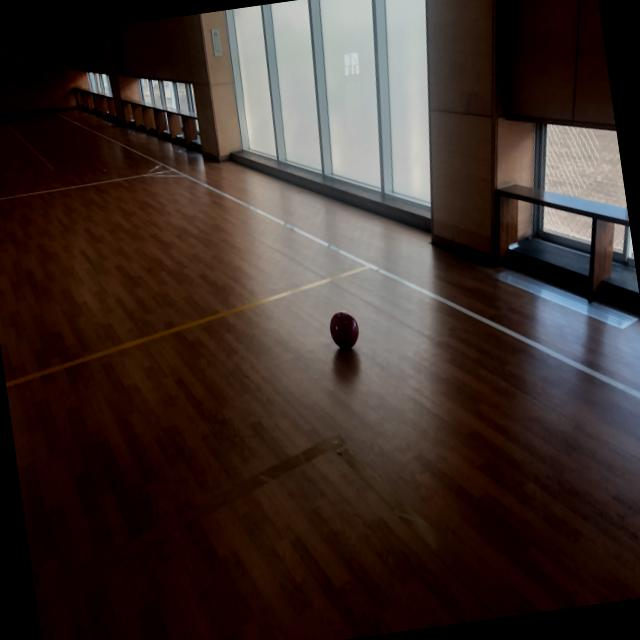red_ball: (327, 308, 361, 352)
